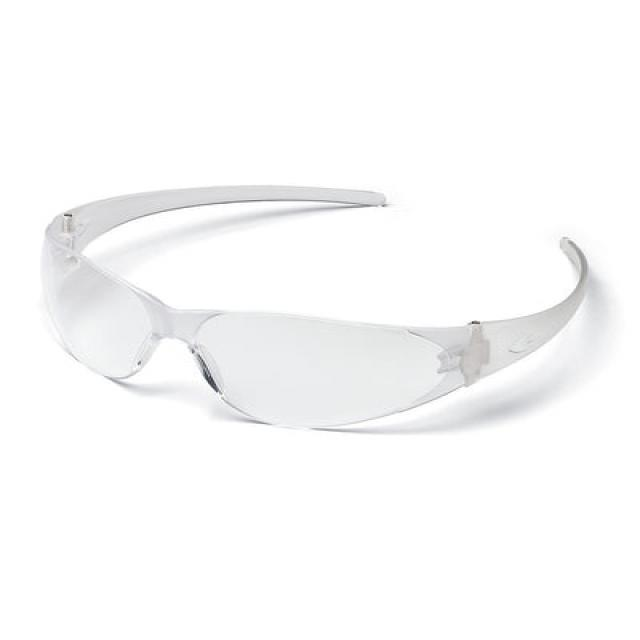Protective Glasses: (24, 174, 598, 456)
